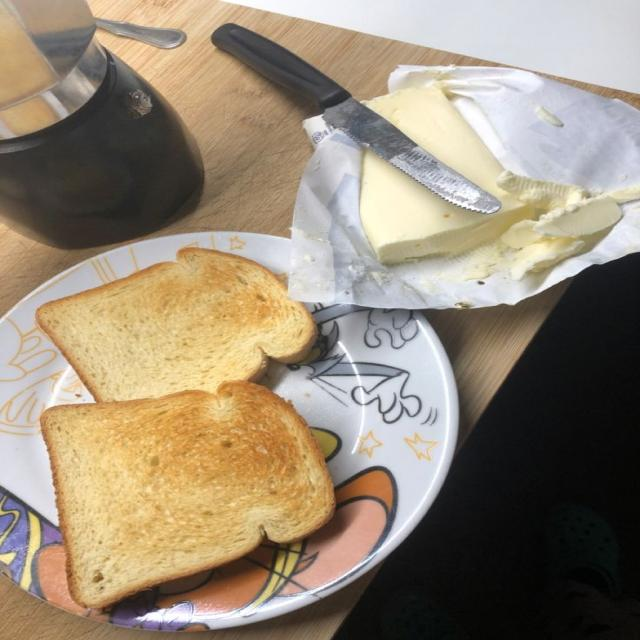toast bread: (41, 381, 334, 608), (36, 248, 316, 401)
